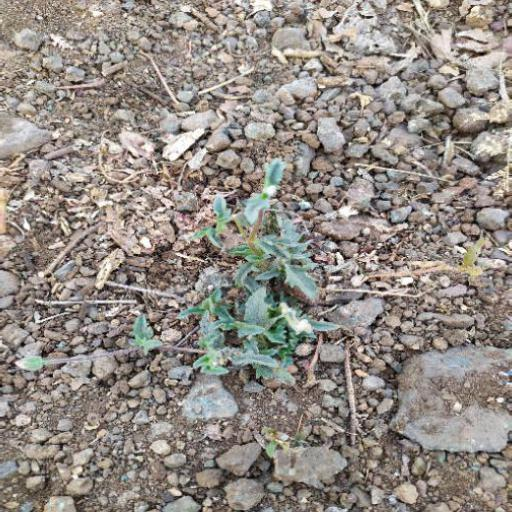weed: (166, 143, 345, 400)
